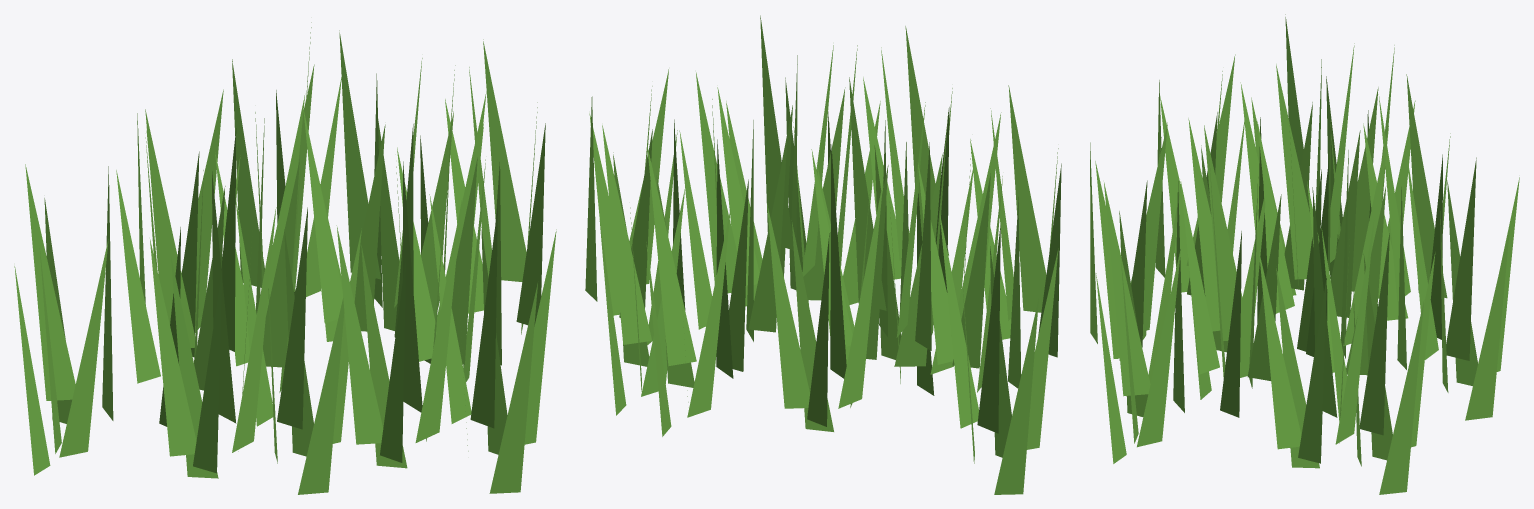
File: grass_multiple_flat.fbx
The picture shows the model from 3 angles, left to right: view 1: azimuth 30°, elevation 25°; view 2: azimuth 150°, elevation 25°; view 3: azimuth 270°, elevation 25°; orthographic projection. The views are drawn at different scales.
Visible parts, largest first — view 1: grass; view 2: grass; view 3: grass.
Part boxes in pixels (x1=…): grass: x1=14, y1=22, x2=556, y2=494; grass: x1=585, y1=15, x2=1061, y2=494; grass: x1=1090, y1=14, x2=1519, y2=494.
Size of the model in its own units: 458 by 315 by 375.
